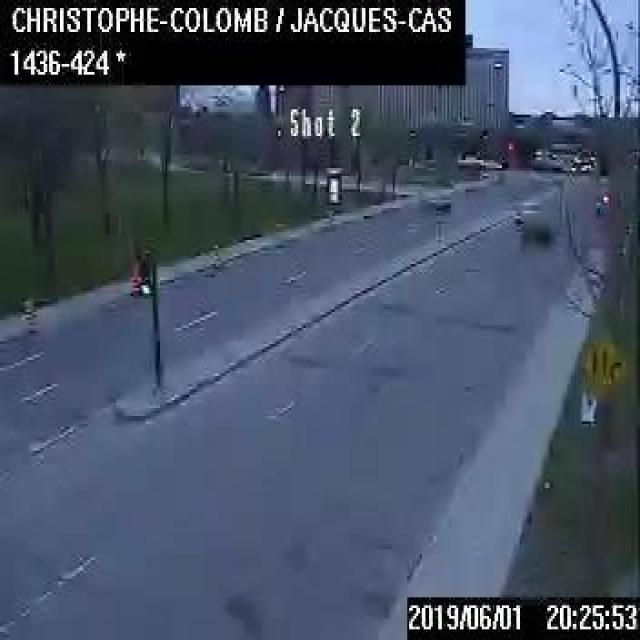construction: (125, 256, 140, 296), (24, 299, 38, 336)
vehicle: (507, 197, 540, 232), (592, 189, 612, 216)
